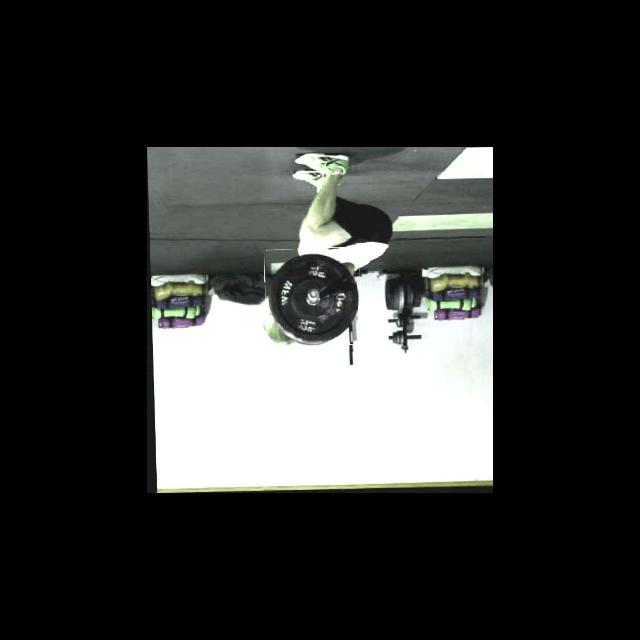barbell: (264, 248, 362, 348)
